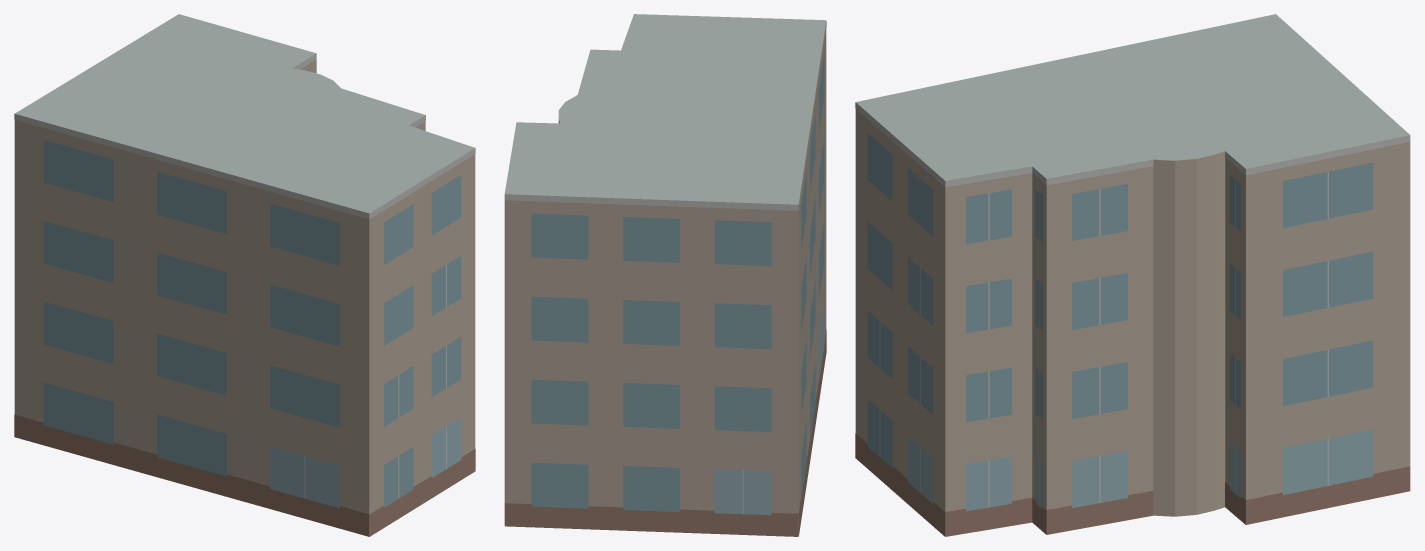
File: survey-upis-32640838.glb
The picture shows the model from 3 angles, left to right: view 1: azimuth 30°, elevation 25°; view 2: azimuth 150°, elevation 25°; view 3: azimuth 270°, elevation 25°; orthographic projection. The views are drawn at different scales.
Visible parts, largest first — view 1: survey-upis-32640838.tmp; view 2: survey-upis-32640838.tmp; view 3: survey-upis-32640838.tmp.
Boxes of the visible parts, x1,y1,x2,y2 form: survey-upis-32640838.tmp: (14,14,475,536); survey-upis-32640838.tmp: (504,14,826,536); survey-upis-32640838.tmp: (855,14,1410,536).
Bounding box in the file's own units: 13.38 × 13.3 × 18.8.
